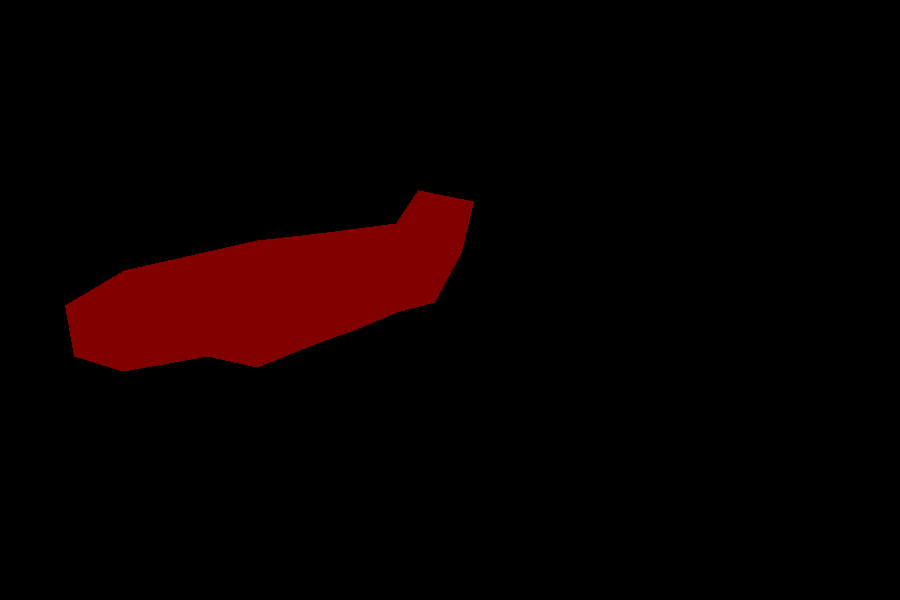fire: (65, 190, 473, 371)
